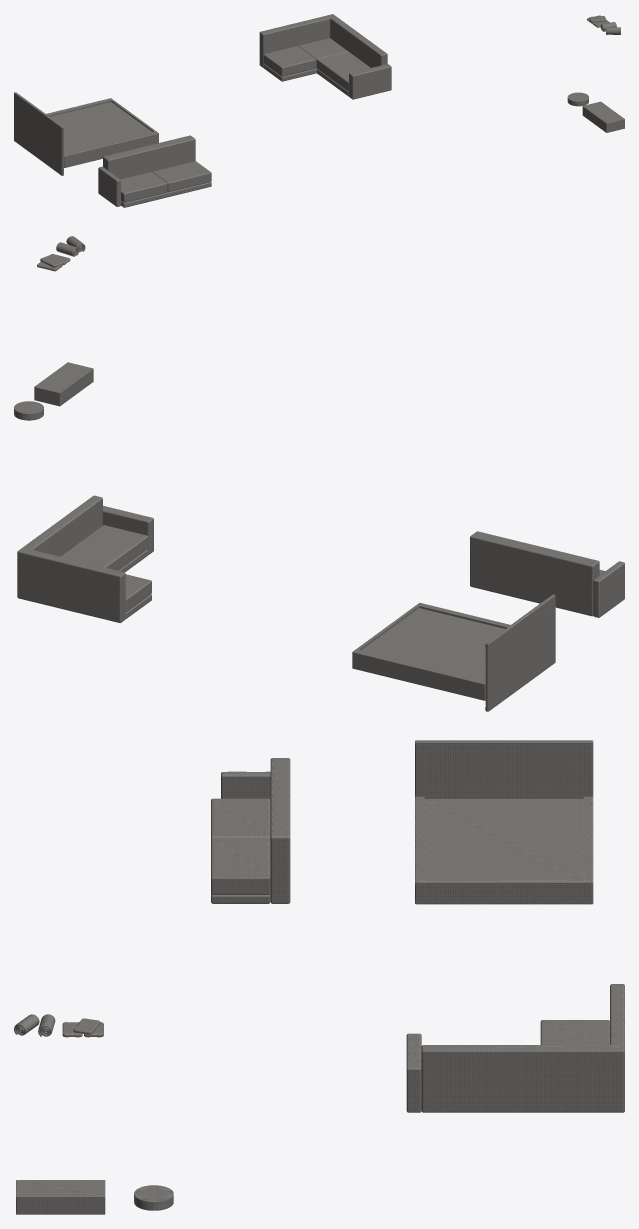
File: ADSK_61.obj
3 views of the same model, one above another, from view 1: azimuth 30°, elevation 25°; view 2: azimuth 150°, elevation 25°; view 3: azimuth 270°, elevation 25° (orthographic). The views are drawn at different scales.
Bounding box in the file's own units: 9.84 × 2.4 × 6.16.
1 material, 1 textured.
